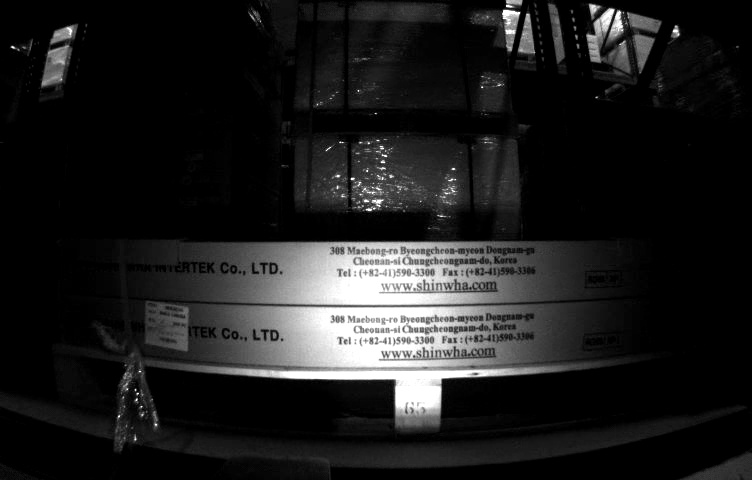True Barcode: (142, 298, 189, 352)
